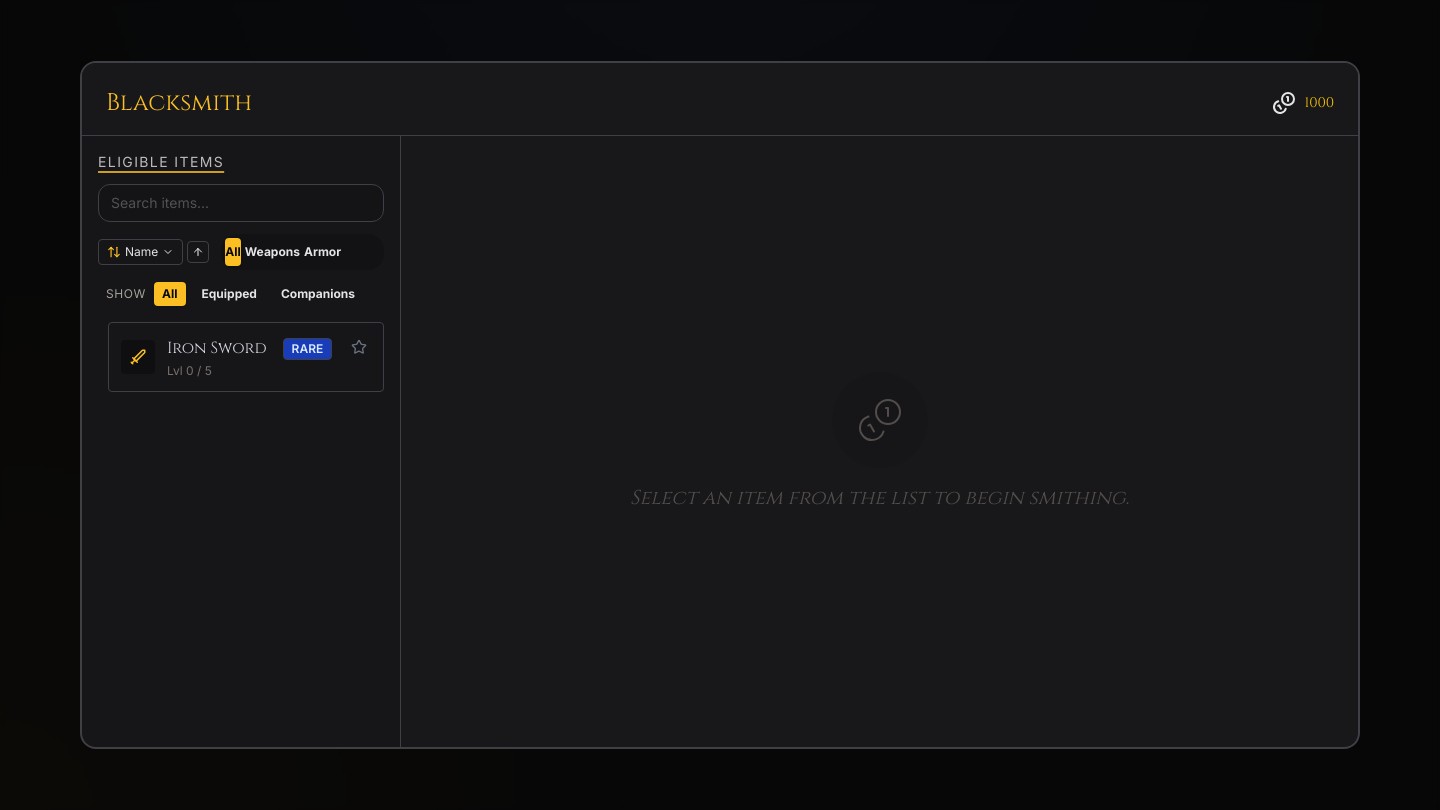
Blacksmith modal upgrade flow › allows upgrade when required materials are available in inventory
The width and height of the screenshot is (1440, 810).
Click the text "Iron Sword": {"x": 217, "y": 348} x1=167 y1=336 x2=267 y2=360
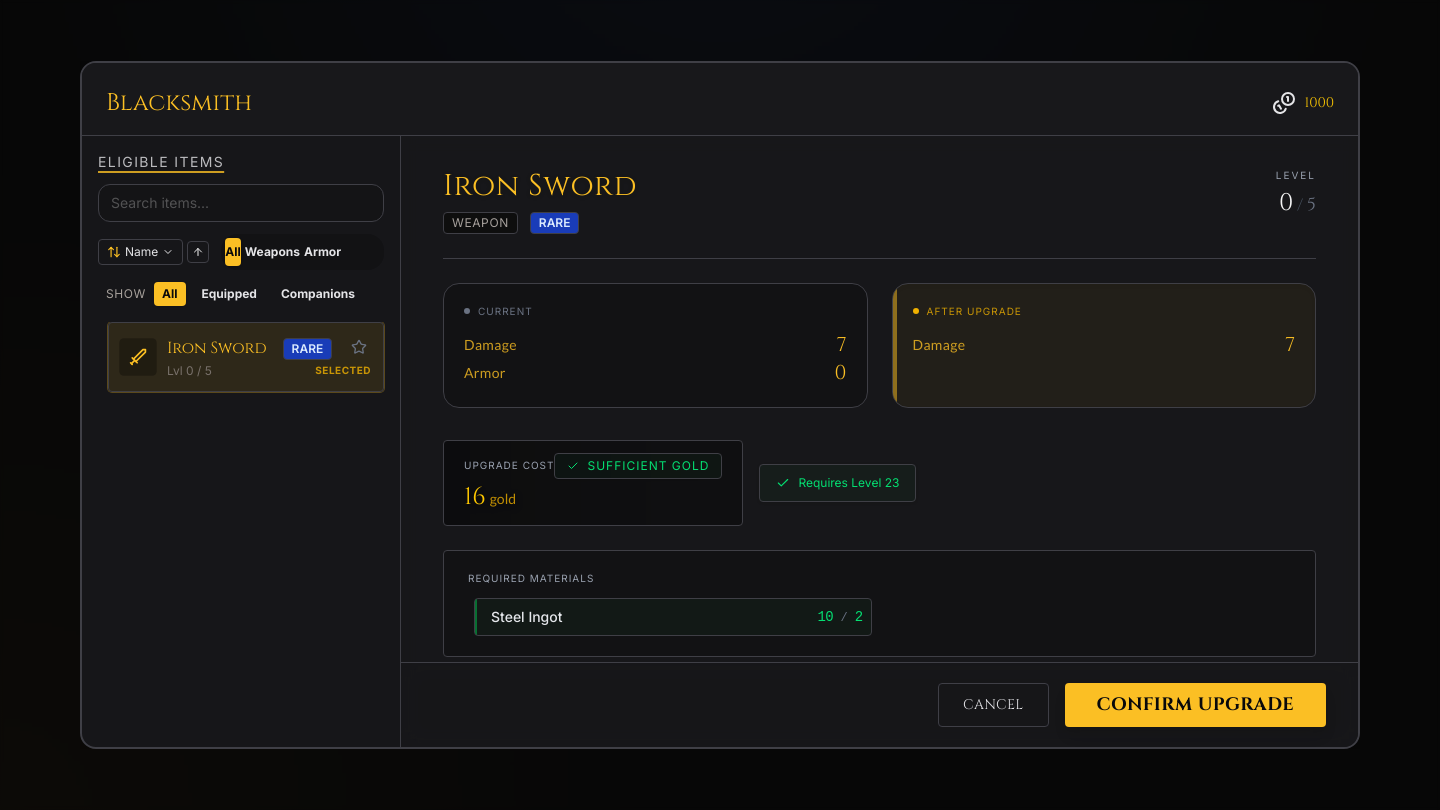
Now the heading "Iron Sword" is shown, box x1=443 y1=168 x2=637 y2=204
Now the text "Steel Ingot" is shown, box x1=483 y1=607 x2=562 y2=627
Now the button "Confirm Upgrade" is enabled, box x1=1064 y1=683 x2=1326 y2=727
